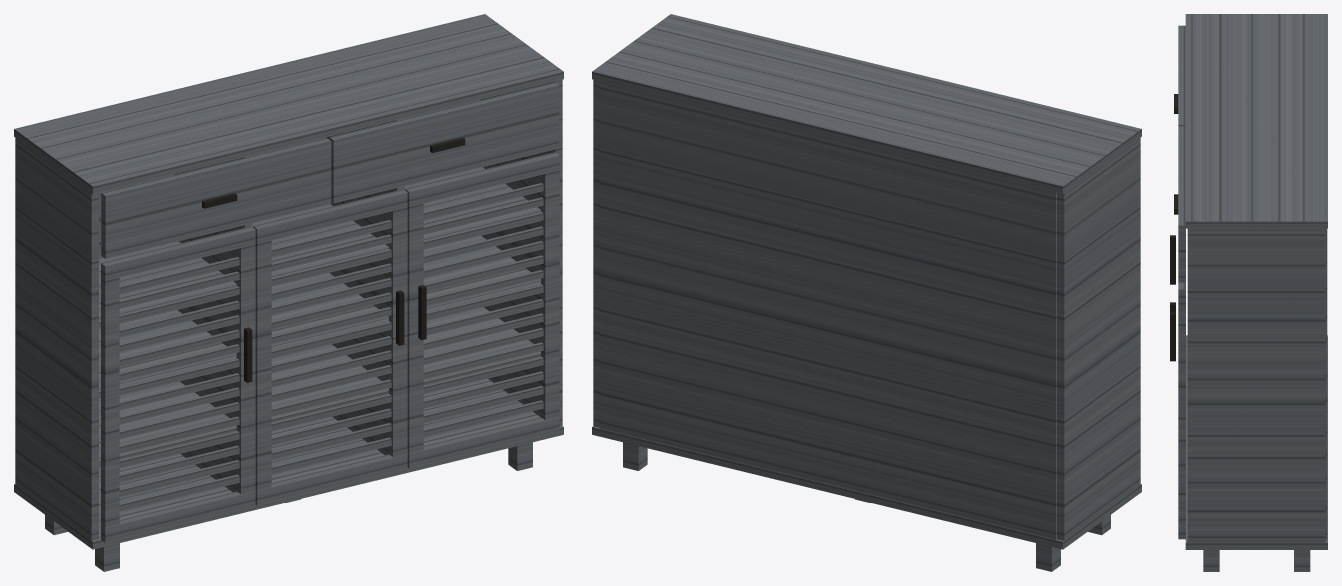
The picture shows the model from 3 angles, left to right: view 1: azimuth 30°, elevation 25°; view 2: azimuth 150°, elevation 25°; view 3: azimuth 270°, elevation 25°; orthographic projection. The views are drawn at different scales.
Parts seen in each view (by area): view 1: Cabinet_Root; view 2: Cabinet_Root; view 3: Cabinet_Root.
Boxes of the visible parts, box(x1,y1,x2,y2) form: Cabinet_Root: box(14, 14, 563, 571); Cabinet_Root: box(592, 14, 1141, 571); Cabinet_Root: box(1170, 14, 1327, 571).
Bounding box in the file's own units: 1.14 × 0.92 × 0.366.
Materials: 2 (2 with a texture image).
